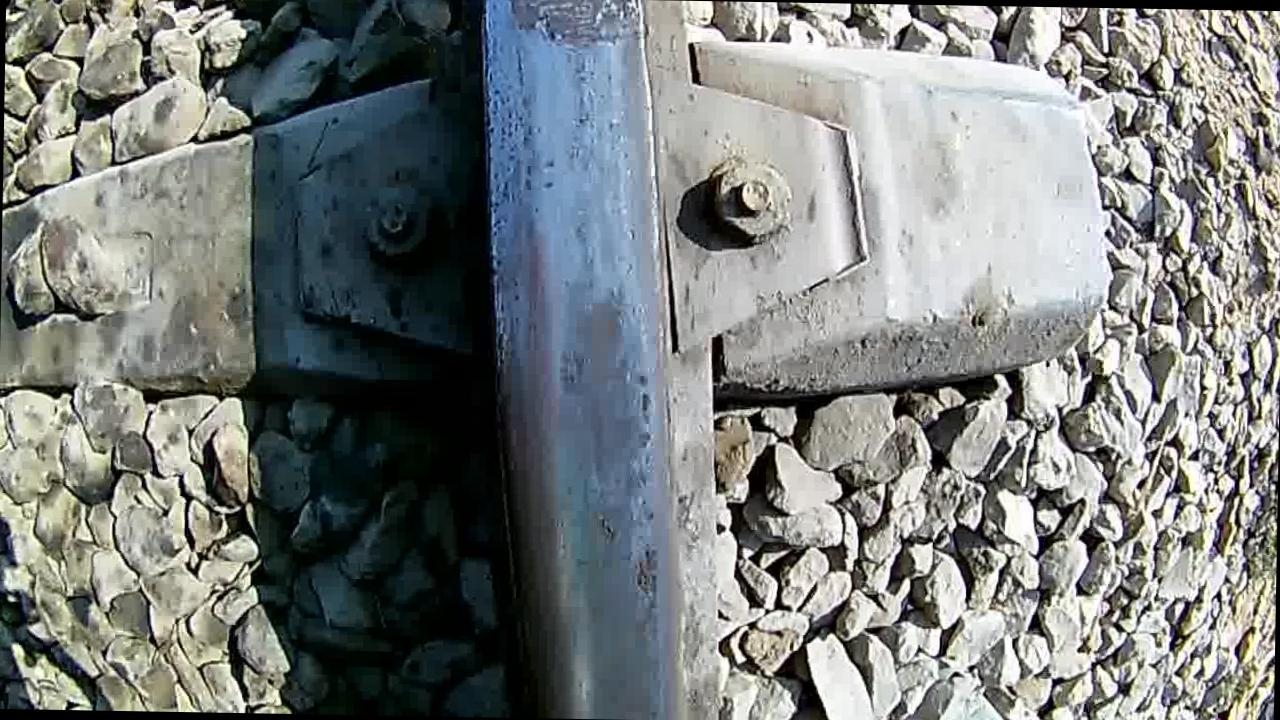crack: (469, 0, 680, 720)
